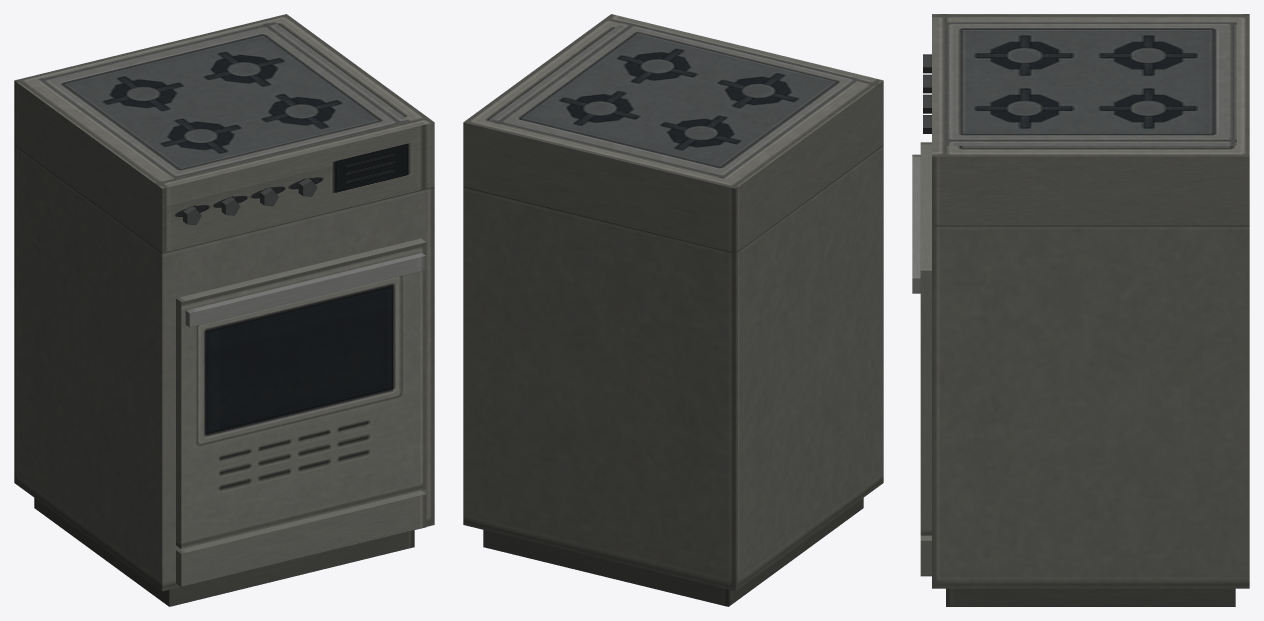
Rendered from stove.glb.
3 views of the same model, side by side, from view 1: azimuth 30°, elevation 25°; view 2: azimuth 150°, elevation 25°; view 3: azimuth 270°, elevation 25° (orthographic). The views are drawn at different scales.
Parts seen in each view (by area): view 1: core_stove; view 2: core_stove; view 3: core_stove.
Part boxes in pixels (x1,y1,x2,y2): core_stove: [14, 14, 434, 606]; core_stove: [463, 14, 883, 606]; core_stove: [912, 14, 1249, 606].
Size of the model in its own units: 0.6 by 0.9 by 0.6.
1 material, 1 textured.
